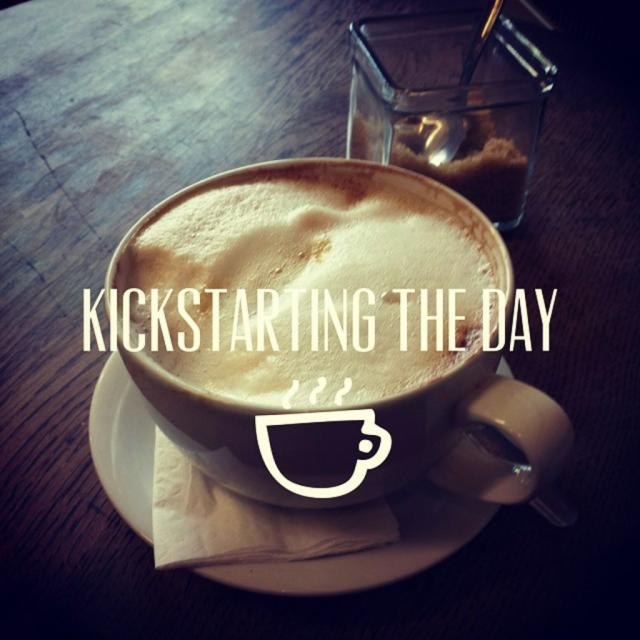Coffee: (110, 160, 503, 407)
